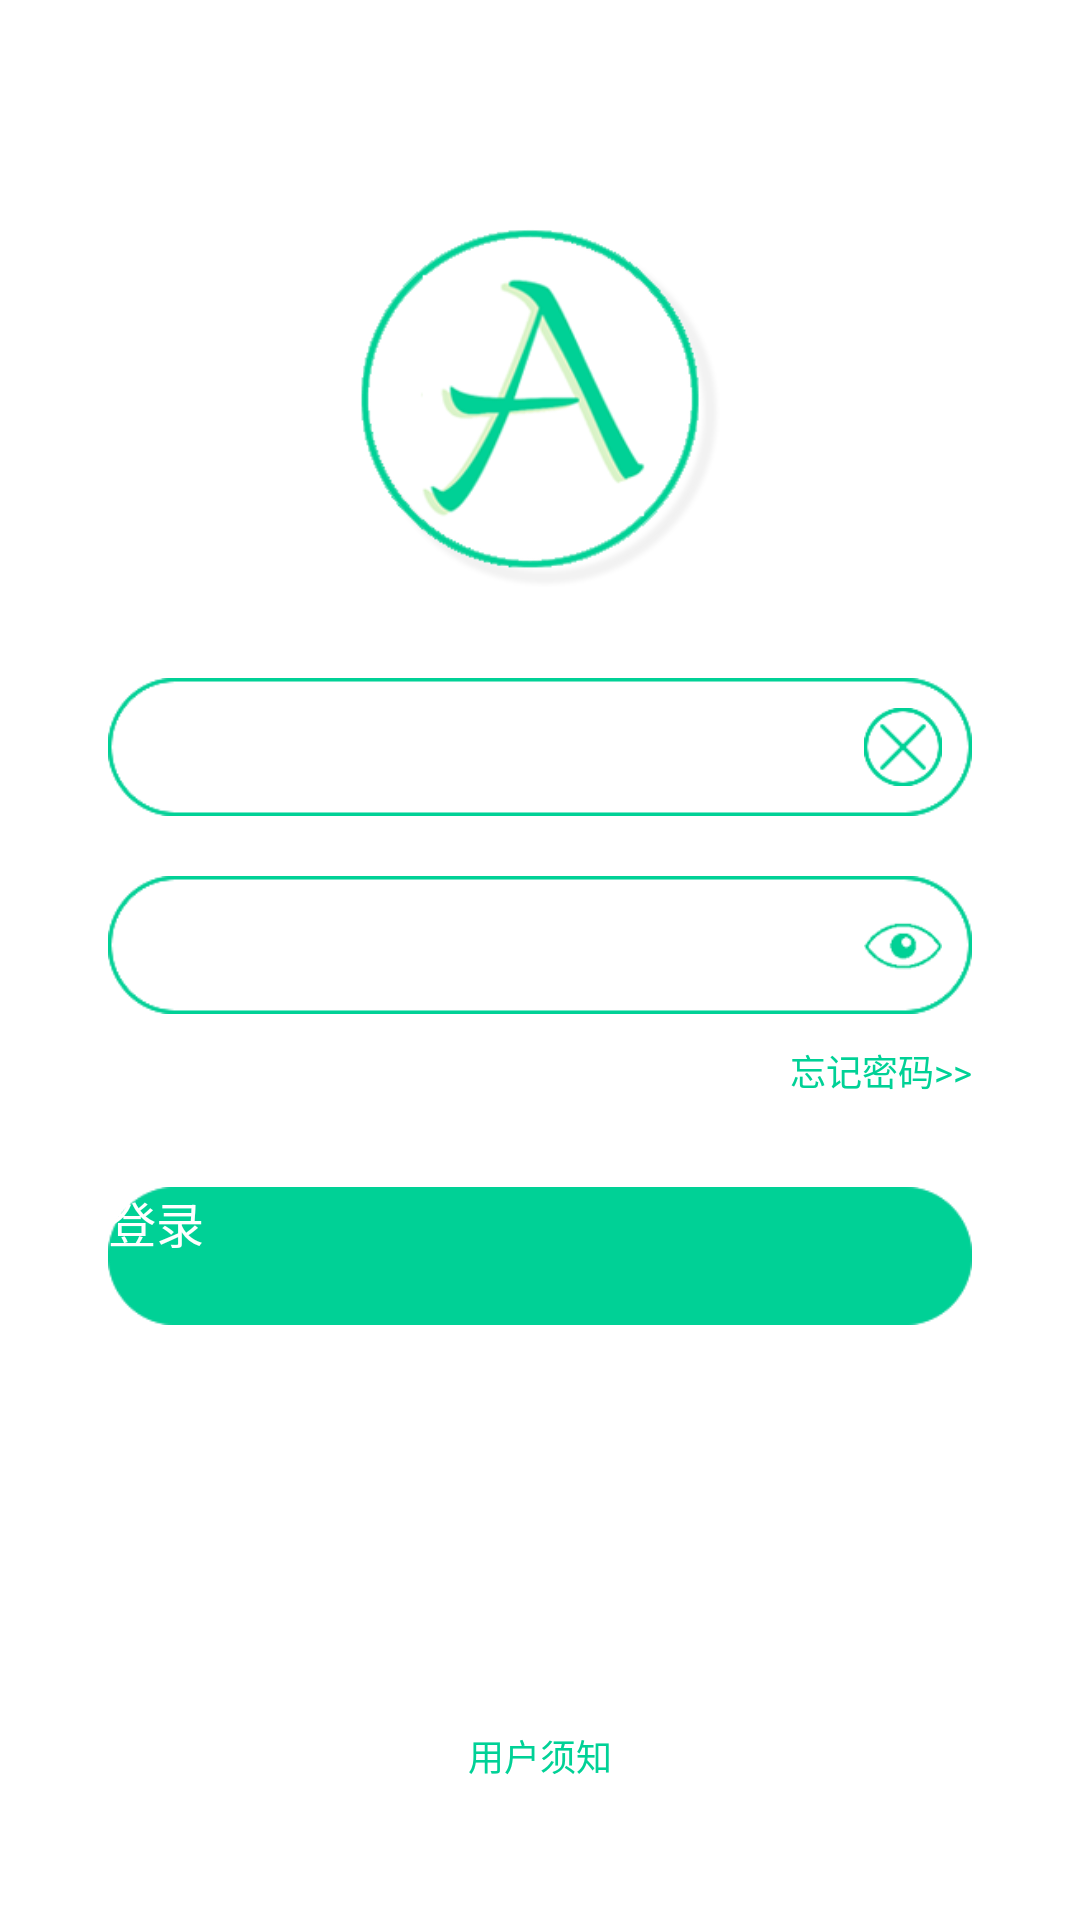

Where icons sit on this 1080×1920 app screen, as (x1,y1,x2,y2):
cross: (864,708,942,786)
eye: (864,923,942,969)
头像: (361,230,699,568)
